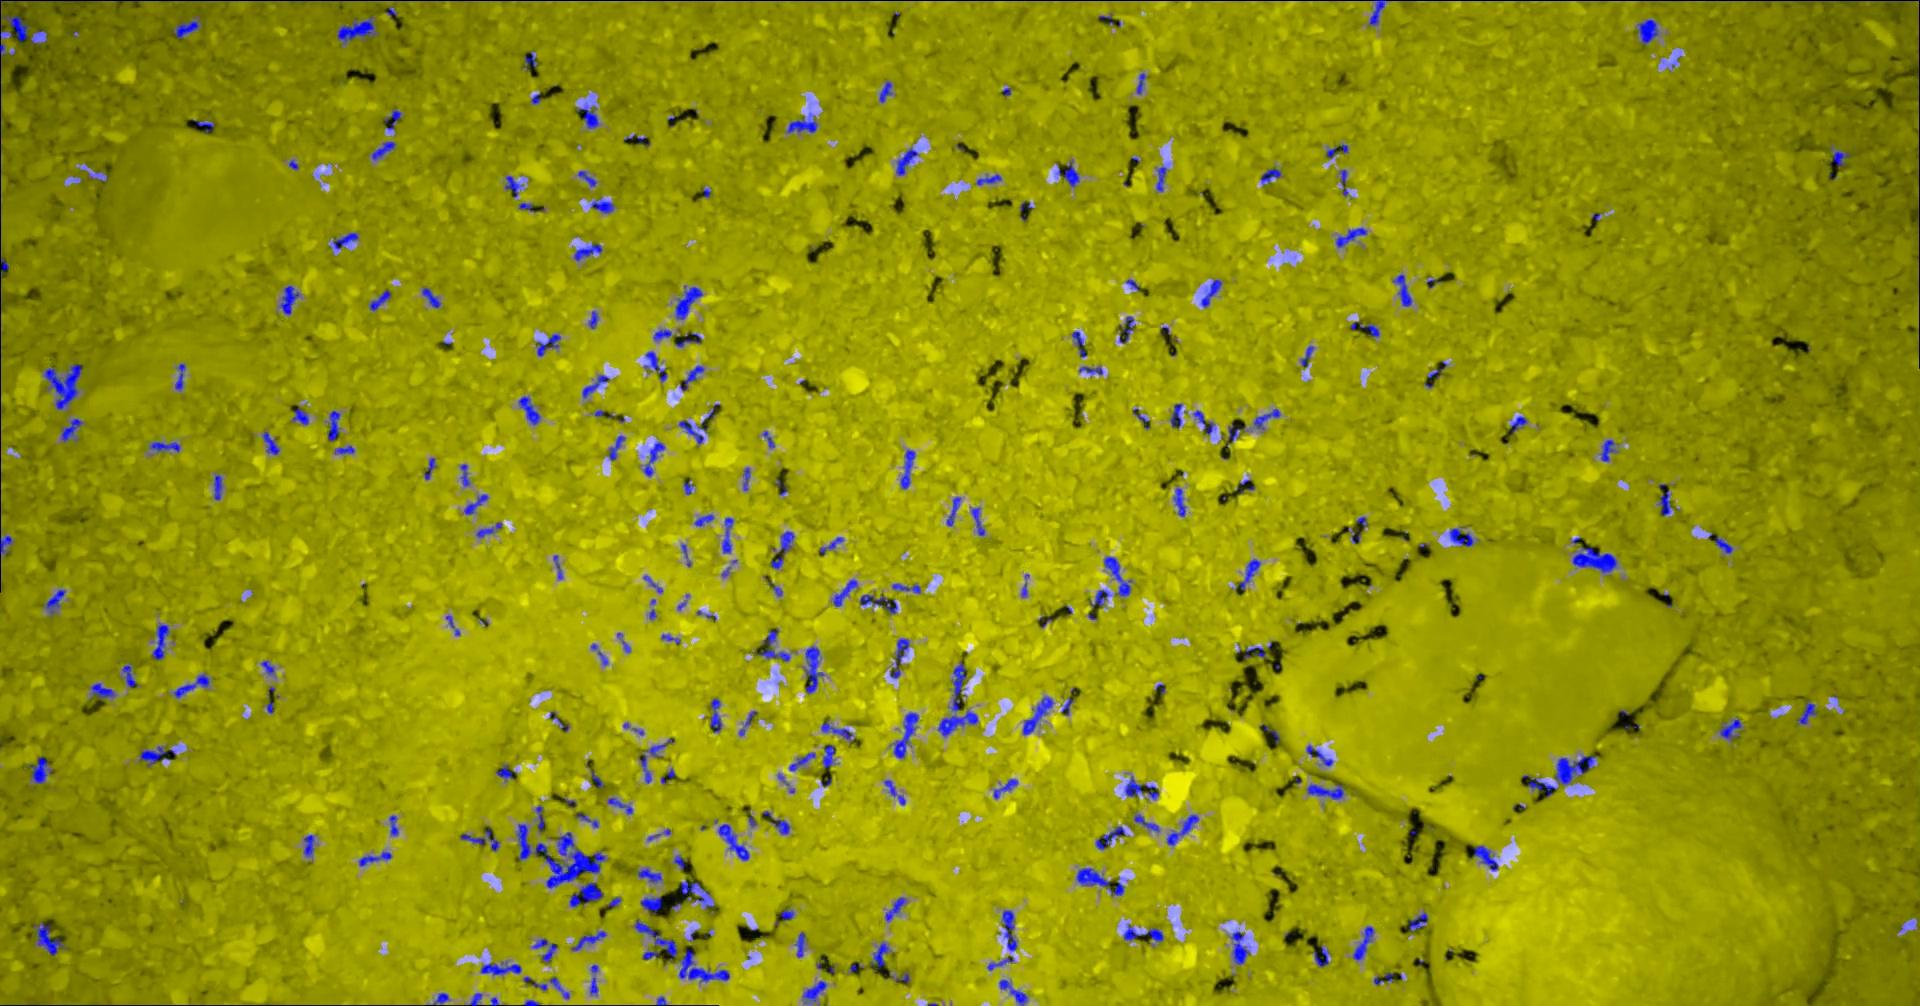ant: (1, 0, 103, 44), (938, 661, 979, 735), (636, 920, 679, 962), (44, 363, 84, 409), (681, 949, 731, 981), (1078, 868, 1126, 895), (1556, 754, 1596, 784), (719, 823, 750, 860), (1023, 696, 1054, 734), (1575, 546, 1619, 572), (895, 713, 919, 758), (338, 15, 377, 43), (1105, 556, 1133, 596), (759, 627, 791, 661), (461, 827, 502, 851), (1168, 814, 1200, 845), (34, 922, 65, 954), (677, 285, 703, 319), (806, 647, 825, 694), (772, 531, 796, 568), (175, 673, 211, 697), (1126, 775, 1161, 799), (1237, 558, 1262, 589), (571, 882, 604, 906), (891, 638, 910, 678), (1524, 775, 1558, 796), (861, 594, 899, 614), (645, 441, 665, 476), (141, 746, 177, 766), (573, 930, 608, 950), (1354, 926, 1375, 959), (1001, 979, 1029, 1005), (1125, 923, 1164, 941), (645, 351, 668, 381), (822, 721, 856, 742), (1097, 826, 1128, 848), (834, 579, 858, 606), (764, 810, 791, 835), (897, 147, 919, 175), (152, 624, 170, 659), (1308, 782, 1346, 799), (1232, 931, 1251, 964), (1003, 909, 1018, 950), (681, 365, 705, 390), (1474, 845, 1498, 870), (577, 102, 599, 128), (584, 375, 611, 398), (30, 756, 53, 782), (1394, 274, 1413, 306), (521, 396, 542, 424), (1255, 408, 1283, 429), (281, 285, 301, 314), (681, 420, 705, 445), (535, 937, 559, 962), (804, 981, 828, 1005), (1337, 227, 1368, 246), (1203, 279, 1223, 307), (648, 737, 676, 757), (682, 880, 711, 899), (538, 333, 563, 356), (902, 448, 916, 488), (1059, 160, 1081, 185), (885, 779, 907, 804), (1308, 744, 1335, 765), (871, 942, 890, 970), (1, 42, 17, 76), (1195, 410, 1217, 434), (465, 493, 489, 514), (575, 243, 604, 260), (1639, 19, 1660, 44), (483, 962, 523, 974), (789, 116, 819, 132), (62, 418, 84, 441), (47, 589, 67, 614), (1709, 533, 1735, 553), (740, 710, 759, 735), (1135, 813, 1161, 832), (361, 851, 392, 866), (790, 752, 817, 770), (1798, 700, 1818, 723), (1721, 719, 1743, 739), (551, 976, 571, 998), (373, 141, 397, 160), (820, 536, 844, 555), (888, 897, 907, 921), (175, 20, 201, 38), (723, 517, 735, 553), (1450, 528, 1476, 546), (331, 232, 361, 248), (1352, 321, 1382, 337), (371, 290, 392, 310), (996, 779, 1018, 798), (610, 796, 634, 814), (676, 332, 703, 347), (1371, 0, 1388, 25), (610, 434, 626, 460), (477, 521, 503, 537), (949, 495, 963, 525), (971, 506, 985, 535), (1121, 316, 1137, 343), (263, 431, 281, 453), (91, 682, 116, 699), (1262, 166, 1283, 185), (423, 287, 442, 307), (329, 410, 342, 441), (1410, 911, 1429, 931), (989, 955, 1015, 970), (505, 175, 523, 197), (643, 895, 664, 913), (711, 699, 723, 732), (1175, 486, 1187, 516), (1073, 332, 1088, 356), (1171, 403, 1186, 427), (640, 754, 653, 782), (123, 664, 138, 687), (577, 812, 599, 827), (385, 111, 403, 130), (1263, 724, 1281, 743), (592, 199, 616, 213), (639, 868, 663, 882), (1134, 408, 1150, 428), (1830, 150, 1851, 165), (497, 763, 518, 779), (978, 173, 1003, 185), (1660, 489, 1672, 514), (1239, 647, 1267, 658), (1229, 423, 1247, 441), (1092, 589, 1110, 607), (1429, 361, 1448, 377), (523, 50, 538, 70), (151, 441, 182, 451), (1327, 144, 1349, 158), (1302, 345, 1316, 367), (1603, 439, 1617, 461), (1316, 945, 1330, 967), (893, 583, 922, 593), (1512, 415, 1529, 433), (579, 170, 598, 185), (824, 744, 837, 767), (1157, 166, 1168, 191), (796, 932, 808, 956), (194, 119, 216, 132), (425, 457, 438, 479), (177, 363, 187, 390), (1237, 479, 1256, 493), (1375, 972, 1396, 984), (295, 408, 310, 424), (305, 835, 316, 856), (1079, 366, 1103, 376), (1, 535, 14, 554), (881, 81, 893, 102), (215, 474, 223, 499), (537, 805, 546, 831), (696, 514, 715, 526), (1349, 527, 1363, 542), (676, 854, 690, 869), (433, 992, 450, 1005), (1342, 169, 1350, 196), (1, 255, 10, 278), (655, 329, 673, 340), (462, 464, 471, 486), (262, 661, 276, 674), (390, 815, 400, 835), (1138, 72, 1147, 94), (589, 310, 599, 328), (744, 467, 752, 490), (337, 445, 356, 453), (781, 908, 795, 920), (644, 951, 662, 959)
